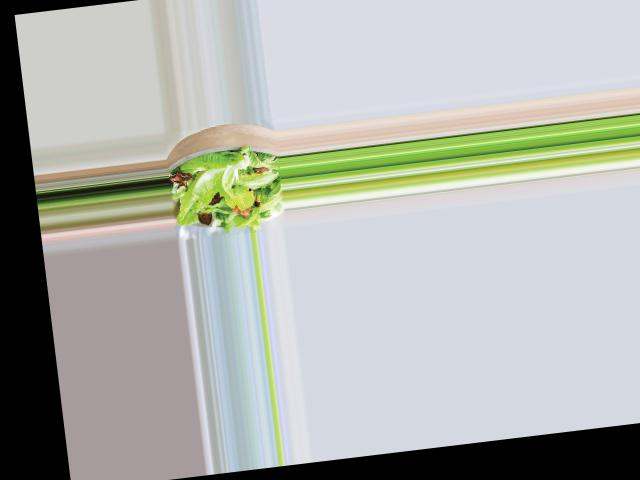lettuce: (176, 145, 280, 233)
